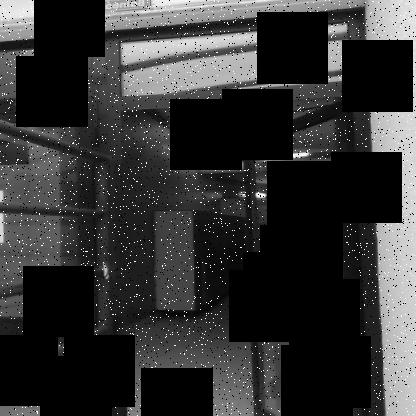Porte: (108, 79, 388, 415)
